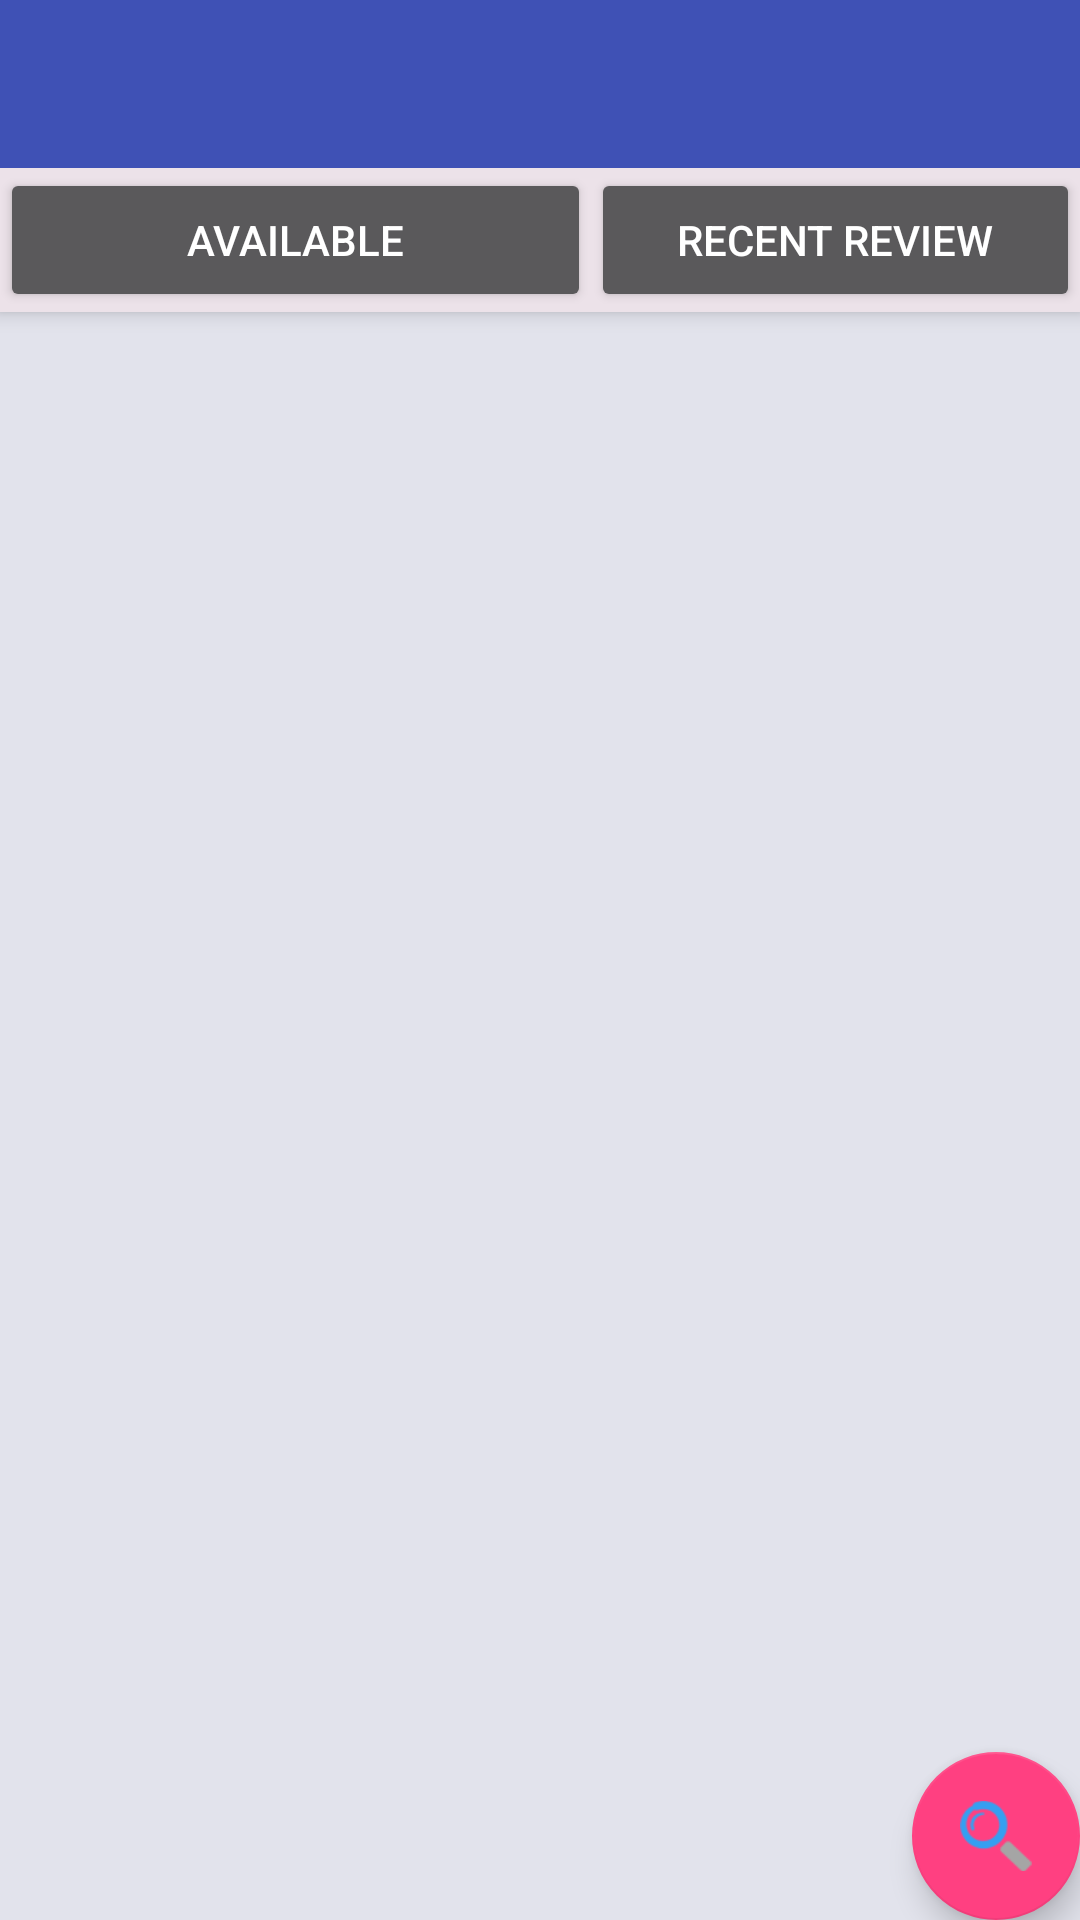

Named icons in this screenshot (1080×1920) and their bounding boxes, [x1=x1, y1=y1, x2=x2, y2=y2]:
search: [x1=912, y1=1752, x2=1080, y2=1920]
